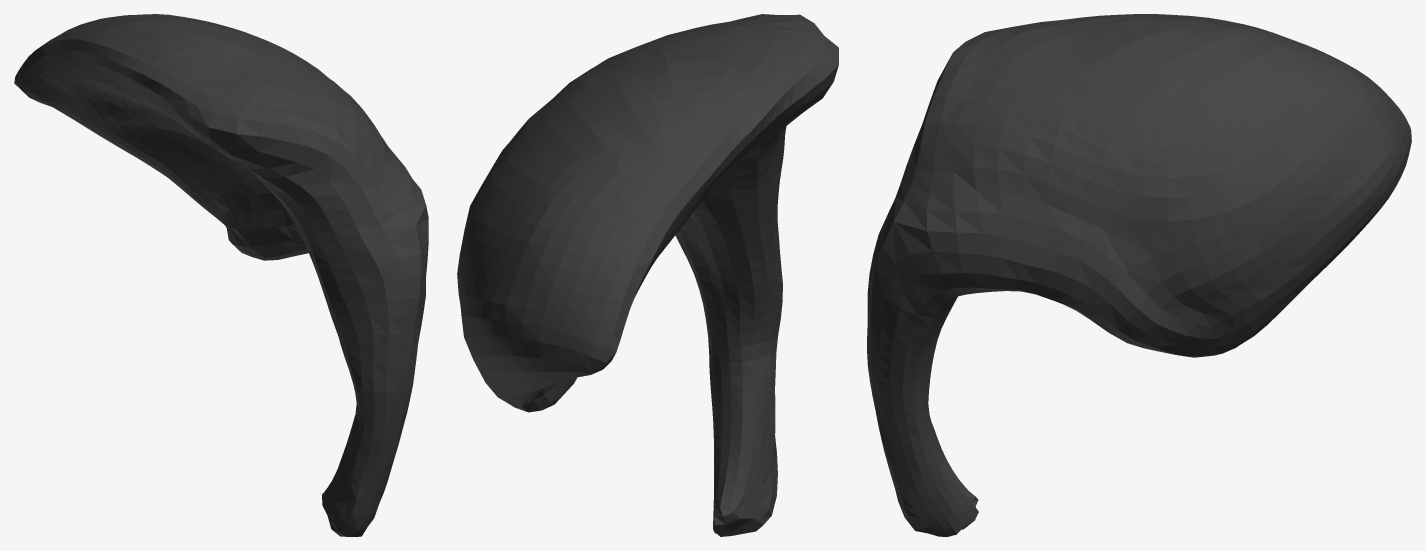
The model's file is temporalis.glb.
The picture shows the model from 3 angles, left to right: view 1: azimuth 30°, elevation 25°; view 2: azimuth 150°, elevation 25°; view 3: azimuth 270°, elevation 25°; orthographic projection. The views are drawn at different scales.
Parts seen in each view (by area): view 1: temporalis; view 2: temporalis; view 3: temporalis.
Part boxes in pixels (x1=…): temporalis: x1=14, y1=14, x2=428, y2=536; temporalis: x1=457, y1=14, x2=838, y2=536; temporalis: x1=867, y1=14, x2=1411, y2=536.
Bounding box in the file's own units: 0.6487 × 1.23 × 1.28.
Materials: 1 (1 with a texture image).
